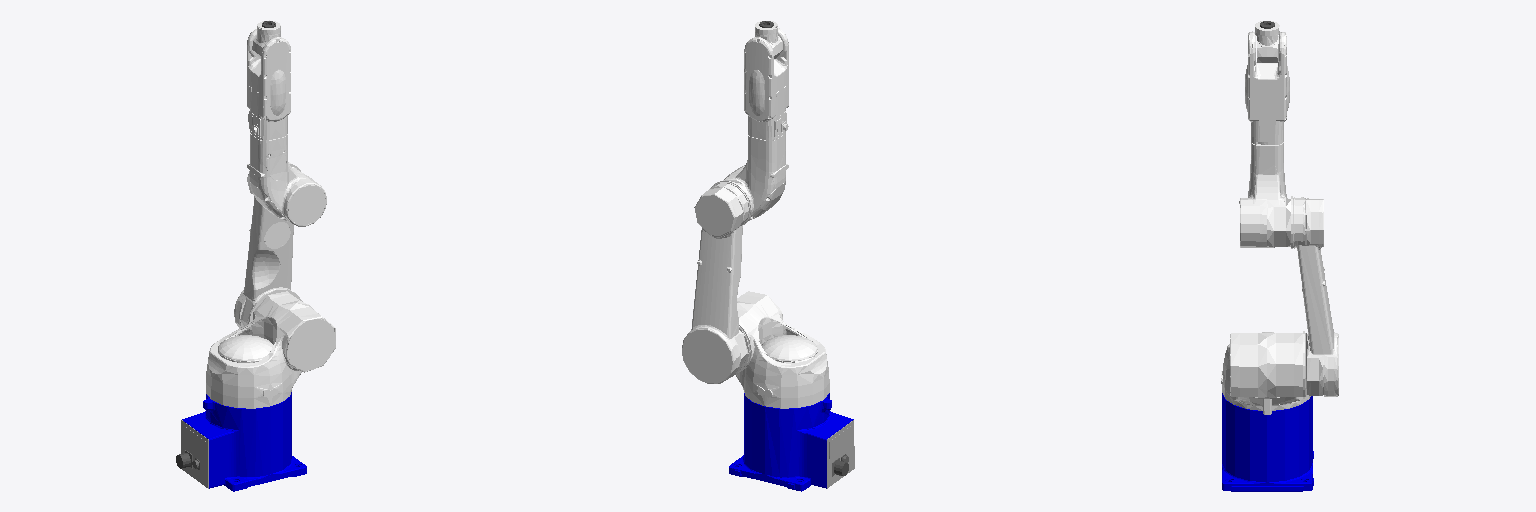
URDF robot description (vm60b1g):
<?xml version="1.0" encoding="UTF-8"?>
<robot name="vm60b1g">
	<gazebo>
		<plugin name="gazebo_ros_control" filename="libgazebo_ros_control.so">
			<robotNamespace>/vm60b1g</robotNamespace>
		</plugin>
	</gazebo>
	<link name="world"/>
	<joint name="joint_w" type="fixed">
		<parent link="world"/>
		<child link="base_link"/>
	</joint>
	<link name="base_link">
		<visual>
			<origin rpy="0 0 0" xyz="0 0 0"/>
			<geometry>
				<mesh filename="package://denso_robot_descriptions/vm60b1g_description/base_link.dae" scale="1 1 1"/>
			</geometry>
		</visual>
		<collision>
			<origin rpy="0 0 0" xyz="0 0 0"/>
			<geometry>
				<mesh filename="package://denso_robot_descriptions/vm60b1g_description/base_link.dae" scale="1 1 1"/>
			</geometry>
		</collision>
		<inertial>
			<mass value="1"/>
			<origin rpy="0.000000 0.000000 0.000000" xyz="0.000000 0.000000 0.000000"/>
			<inertia ixx="1" ixy="0" ixz="0" iyy="1" iyz="0" izz="1"/>
		</inertial>
	</link>
	<link name="J1">
		<visual>
			<origin rpy="0 0 0" xyz="0 0 0"/>
			<geometry>
				<mesh filename="package://denso_robot_descriptions/vm60b1g_description/J1.dae" scale="1 1 1"/>
			</geometry>
		</visual>
		<collision>
			<origin rpy="0 0 0" xyz="0 0 0"/>
			<geometry>
				<mesh filename="package://denso_robot_descriptions/vm60b1g_description/J1.dae" scale="1 1 1"/>
			</geometry>
		</collision>
		<inertial>
			<mass value="1"/>
			<origin rpy="0.000000 0.000000 0.000000" xyz="0.000000 0.000000 0.000000"/>
			<inertia ixx="1" ixy="0" ixz="0" iyy="1" iyz="0" izz="1"/>
		</inertial>
	</link>
	<joint name="joint_1" type="revolute">
		<parent link="base_link"/>
		<child link="J1"/>
		<origin rpy="0.000000 0.000000 0.000000" xyz="0.000000 0.000000 0.000000"/>
		<axis xyz="-0.000000 -0.000000 1.000000"/>
		<limit effort="1" lower="-2.96706" upper="2.96706" velocity="1"/>
		<dynamics damping="0" friction="0"/>
	</joint>
	<transmission name="trans_1">
		<type>transmission_interface/SimpleTransmission</type>
		<joint name="joint_1">
			<hardwareInterface>PositionJointInterface</hardwareInterface>
		</joint>
		<actuator name="motor_1">
			<hardwareInterface>PositionJointInterface</hardwareInterface>
			<mechanicalReduction>1</mechanicalReduction>
		</actuator>
	</transmission>
	<link name="J2">
		<visual>
			<origin rpy="0 0 0" xyz="0 0 0"/>
			<geometry>
				<mesh filename="package://denso_robot_descriptions/vm60b1g_description/J2.dae" scale="1 1 1"/>
			</geometry>
		</visual>
		<collision>
			<origin rpy="0 0 0" xyz="0 0 0"/>
			<geometry>
				<mesh filename="package://denso_robot_descriptions/vm60b1g_description/J2.dae" scale="1 1 1"/>
			</geometry>
		</collision>
		<inertial>
			<mass value="1"/>
			<origin rpy="0.000000 0.000000 0.000000" xyz="0.000000 0.000000 0.000000"/>
			<inertia ixx="1" ixy="0" ixz="0" iyy="1" iyz="0" izz="1"/>
		</inertial>
	</link>
	<joint name="joint_2" type="revolute">
		<parent link="J1"/>
		<child link="J2"/>
		<origin rpy="0.000000 0.000000 0.000000" xyz="0.180000 0.000000 0.475000"/>
		<axis xyz="-0.000000 1.000000 -0.000000"/>
		<limit effort="1" lower="-1.570796" upper="2.356194" velocity="1"/>
		<dynamics damping="0" friction="0"/>
	</joint>
	<transmission name="trans_2">
		<type>transmission_interface/SimpleTransmission</type>
		<joint name="joint_2">
			<hardwareInterface>PositionJointInterface</hardwareInterface>
		</joint>
		<actuator name="motor_2">
			<hardwareInterface>PositionJointInterface</hardwareInterface>
			<mechanicalReduction>1</mechanicalReduction>
		</actuator>
	</transmission>
	<link name="J3">
		<visual>
			<origin rpy="0 0 0" xyz="0 0 0"/>
			<geometry>
				<mesh filename="package://denso_robot_descriptions/vm60b1g_description/J3.dae" scale="1 1 1"/>
			</geometry>
		</visual>
		<collision>
			<origin rpy="0 0 0" xyz="0 0 0"/>
			<geometry>
				<mesh filename="package://denso_robot_descriptions/vm60b1g_description/J3.dae" scale="1 1 1"/>
			</geometry>
		</collision>
		<inertial>
			<mass value="1"/>
			<origin rpy="0.000000 0.000000 0.000000" xyz="0.000000 0.000000 0.000000"/>
			<inertia ixx="1" ixy="0" ixz="0" iyy="1" iyz="0" izz="1"/>
		</inertial>
	</link>
	<joint name="joint_3" type="revolute">
		<parent link="J2"/>
		<child link="J3"/>
		<origin rpy="0.000000 0.000000 0.000000" xyz="0.000000 0.000000 0.520000"/>
		<axis xyz="-0.000000 1.000000 -0.000000"/>
		<limit effort="1" lower="-1.396263" upper="2.932153" velocity="1"/>
		<dynamics damping="0" friction="0"/>
	</joint>
	<transmission name="trans_3">
		<type>transmission_interface/SimpleTransmission</type>
		<joint name="joint_3">
			<hardwareInterface>PositionJointInterface</hardwareInterface>
		</joint>
		<actuator name="motor_3">
			<hardwareInterface>PositionJointInterface</hardwareInterface>
			<mechanicalReduction>1</mechanicalReduction>
		</actuator>
	</transmission>
	<link name="J4">
		<visual>
			<origin rpy="0 0 0" xyz="0 0 0"/>
			<geometry>
				<mesh filename="package://denso_robot_descriptions/vm60b1g_description/J4.dae" scale="1 1 1"/>
			</geometry>
		</visual>
		<collision>
			<origin rpy="0 0 0" xyz="0 0 0"/>
			<geometry>
				<mesh filename="package://denso_robot_descriptions/vm60b1g_description/J4.dae" scale="1 1 1"/>
			</geometry>
		</collision>
		<inertial>
			<mass value="1"/>
			<origin rpy="0.000000 0.000000 0.000000" xyz="0.000000 0.000000 0.000000"/>
			<inertia ixx="1" ixy="0" ixz="0" iyy="1" iyz="0" izz="1"/>
		</inertial>
	</link>
	<joint name="joint_4" type="revolute">
		<parent link="J3"/>
		<child link="J4"/>
		<origin rpy="0.000000 0.000000 0.000000" xyz="-0.100000 0.000000 -0.995000"/>
		<axis xyz="-0.000000 -0.000000 1.000000"/>
		<limit effort="1" lower="-3.228859" upper="3.228859" velocity="1"/>
		<dynamics damping="0" friction="0"/>
	</joint>
	<transmission name="trans_4">
		<type>transmission_interface/SimpleTransmission</type>
		<joint name="joint_4">
			<hardwareInterface>PositionJointInterface</hardwareInterface>
		</joint>
		<actuator name="motor_4">
			<hardwareInterface>PositionJointInterface</hardwareInterface>
			<mechanicalReduction>1</mechanicalReduction>
		</actuator>
	</transmission>
	<link name="J5">
		<visual>
			<origin rpy="0 0 0" xyz="0 0 0"/>
			<geometry>
				<mesh filename="package://denso_robot_descriptions/vm60b1g_description/J5.dae" scale="1 1 1"/>
			</geometry>
		</visual>
		<collision>
			<origin rpy="0 0 0" xyz="0 0 0"/>
			<geometry>
				<mesh filename="package://denso_robot_descriptions/vm60b1g_description/J5.dae" scale="1 1 1"/>
			</geometry>
		</collision>
		<inertial>
			<mass value="1"/>
			<origin rpy="0.000000 0.000000 0.000000" xyz="0.000000 0.000000 0.000000"/>
			<inertia ixx="1" ixy="0" ixz="0" iyy="1" iyz="0" izz="1"/>
		</inertial>
	</link>
	<joint name="joint_5" type="revolute">
		<parent link="J4"/>
		<child link="J5"/>
		<origin rpy="0.000000 0.000000 0.000000" xyz="0.000000 0.000000 1.585000"/>
		<axis xyz="-0.000000 1.000000 -0.000000"/>
		<limit effort="1" lower="-2.094395" upper="2.094395" velocity="1"/>
		<dynamics damping="0" friction="0"/>
	</joint>
	<transmission name="trans_5">
		<type>transmission_interface/SimpleTransmission</type>
		<joint name="joint_5">
			<hardwareInterface>PositionJointInterface</hardwareInterface>
		</joint>
		<actuator name="motor_5">
			<hardwareInterface>PositionJointInterface</hardwareInterface>
			<mechanicalReduction>1</mechanicalReduction>
		</actuator>
	</transmission>
	<link name="J6">
		<visual>
			<origin rpy="0 0 0" xyz="0 0 0"/>
			<geometry>
				<mesh filename="package://denso_robot_descriptions/vm60b1g_description/J6.dae" scale="1 1 1"/>
			</geometry>
		</visual>
		<collision>
			<origin rpy="0 0 0" xyz="0 0 0"/>
			<geometry>
				<mesh filename="package://denso_robot_descriptions/vm60b1g_description/J6.dae" scale="1 1 1"/>
			</geometry>
		</collision>
		<inertial>
			<mass value="1"/>
			<origin rpy="0.000000 0.000000 0.000000" xyz="0.000000 0.000000 0.000000"/>
			<inertia ixx="1" ixy="0" ixz="0" iyy="1" iyz="0" izz="1"/>
		</inertial>
	</link>
	<joint name="joint_6" type="revolute">
		<parent link="J5"/>
		<child link="J6"/>
		<origin rpy="0.000000 0.000000 0.000000" xyz="0.000000 0.000000 0.090000"/>
		<axis xyz="-0.000000 -0.000000 1.000000"/>
		<limit effort="1" lower="-6.283185" upper="6.283185" velocity="1"/>
		<dynamics damping="0" friction="0"/>
	</joint>
	<transmission name="trans_6">
		<type>transmission_interface/SimpleTransmission</type>
		<joint name="joint_6">
			<hardwareInterface>PositionJointInterface</hardwareInterface>
		</joint>
		<actuator name="motor_6">
			<hardwareInterface>PositionJointInterface</hardwareInterface>
			<mechanicalReduction>1</mechanicalReduction>
		</actuator>
	</transmission>
</robot>

--- Facts derived from the render (not from the file) ---
Views: 3 orthographic renders of the robot side by side, from view 1: azimuth 30°, elevation 25°; view 2: azimuth 150°, elevation 25°; view 3: azimuth 270°, elevation 25°.
Model vm60b1g with 8 links and 7 joints (6 revolute, 1 fixed), rooted at world, posed all joints at 0.
Visible links, largest first — view 1: J1, base_link, J3, J2, J4; view 2: J2, base_link, J1, J4, J3; view 3: base_link, J1, J2, J3, J4, J5.
Link boxes in pixels (left/top/right/bottom): J1: left=206, top=289, right=335, bottom=408; base_link: left=176, top=392, right=306, bottom=491; J3: left=247, top=133, right=326, bottom=226; J2: left=234, top=162, right=293, bottom=328; J4: left=247, top=28, right=290, bottom=140; J2: left=682, top=182, right=750, bottom=383; base_link: left=729, top=393, right=854, bottom=491; J1: left=735, top=291, right=829, bottom=408; J4: left=744, top=28, right=788, bottom=140; J3: left=711, top=133, right=788, bottom=224; base_link: left=1222, top=393, right=1313, bottom=491; J1: left=1221, top=331, right=1310, bottom=414; J2: left=1293, top=197, right=1338, bottom=396; J3: left=1239, top=142, right=1292, bottom=248; J4: left=1245, top=31, right=1289, bottom=144; J5: left=1255, top=21, right=1279, bottom=62.
Size in the robot's own frame: 0.5486 by 0.39 by 1.68 metres.
Meshes: 7 distinct files referenced, 7 mesh visuals loaded (7 Collada DAE).
